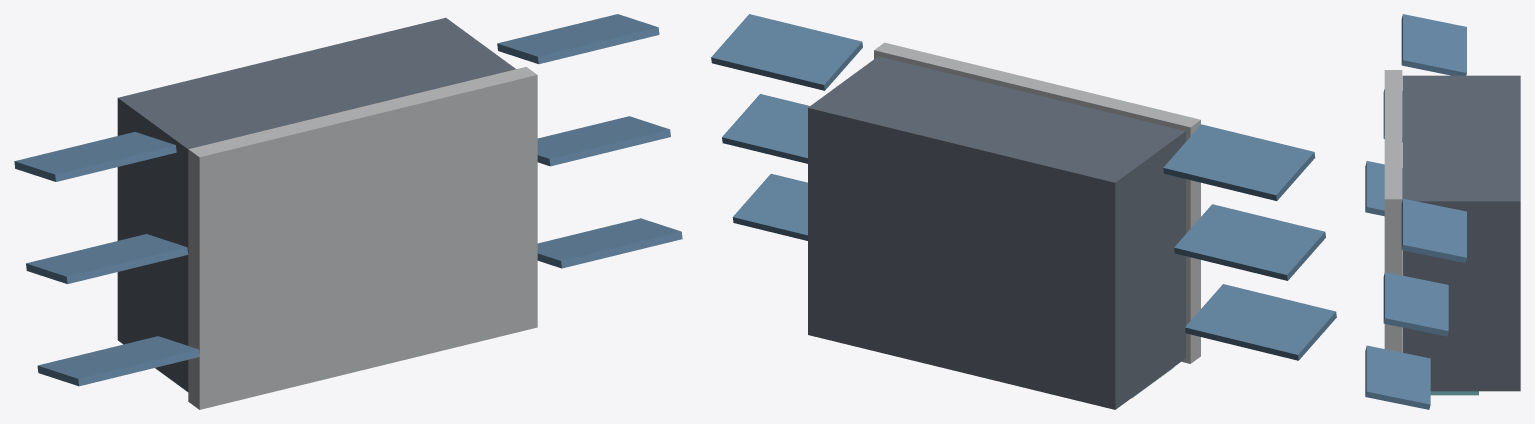
File: power_station_solar.glb
3 renders of one model, left to right at view 1: azimuth 30°, elevation 25°; view 2: azimuth 150°, elevation 25°; view 3: azimuth 270°, elevation 25°, orthographic. The views are drawn at different scales.
Visible parts, largest first — view 1: power_station_solar_1, power_station_solar_0, power_station_solar_6, power_station_solar_11, power_station_solar_7, power_station_solar_8, power_station_solar_9, power_station_solar_10; view 2: power_station_solar_0, power_station_solar_1, power_station_solar_8, power_station_solar_6, power_station_solar_11, power_station_solar_7, power_station_solar_10, power_station_solar_9; view 3: power_station_solar_0, power_station_solar_1, power_station_solar_9, power_station_solar_10, power_station_solar_11, power_station_solar_8, power_station_solar_6, power_station_solar_5.
Boxes of the visible parts, x1,y1,x2,y2 form: power_station_solar_1: (188,66,537,409); power_station_solar_0: (117,17,515,391); power_station_solar_6: (37,336,199,386); power_station_solar_11: (497,14,659,64); power_station_solar_7: (26,234,188,284); power_station_solar_8: (14,132,176,181); power_station_solar_9: (537,218,682,268); power_station_solar_10: (537,116,670,166); power_station_solar_0: (808,56,1185,409); power_station_solar_1: (874,42,1200,363); power_station_solar_8: (1163,124,1315,200); power_station_solar_6: (1185,284,1336,360); power_station_solar_11: (711,14,862,90); power_station_solar_7: (1174,204,1325,280); power_station_solar_10: (722,94,809,163); power_station_solar_9: (732,173,807,240); power_station_solar_0: (1402,75,1520,391); power_station_solar_1: (1384,70,1402,352); power_station_solar_9: (1365,345,1430,409); power_station_solar_10: (1383,272,1448,336); power_station_solar_11: (1401,198,1466,262); power_station_solar_8: (1401,14,1466,75); power_station_solar_6: (1365,161,1402,216); power_station_solar_5: (1430,391,1478,395).
Bounding box in the file's own units: 6.25 × 2.61 × 1.78.
